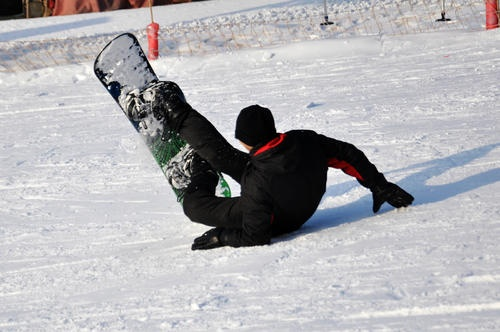falling: (129, 65, 433, 258)
